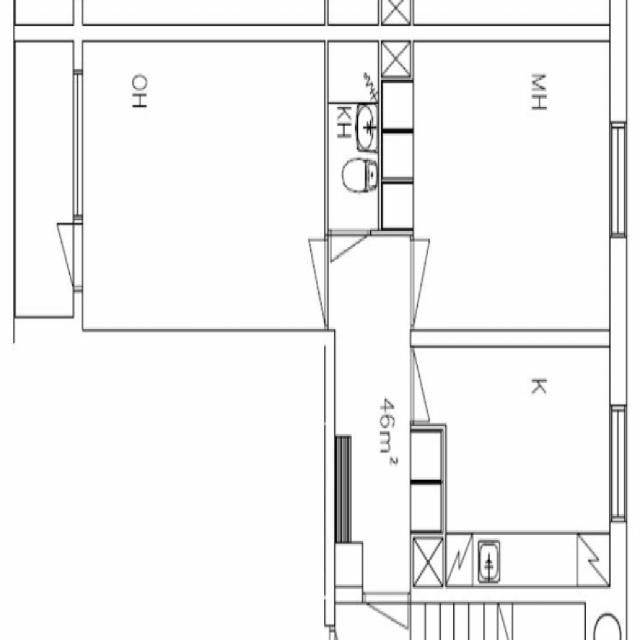door: (274, 241, 328, 325), (411, 241, 465, 324), (411, 349, 457, 422), (33, 224, 82, 289), (330, 229, 370, 301)
